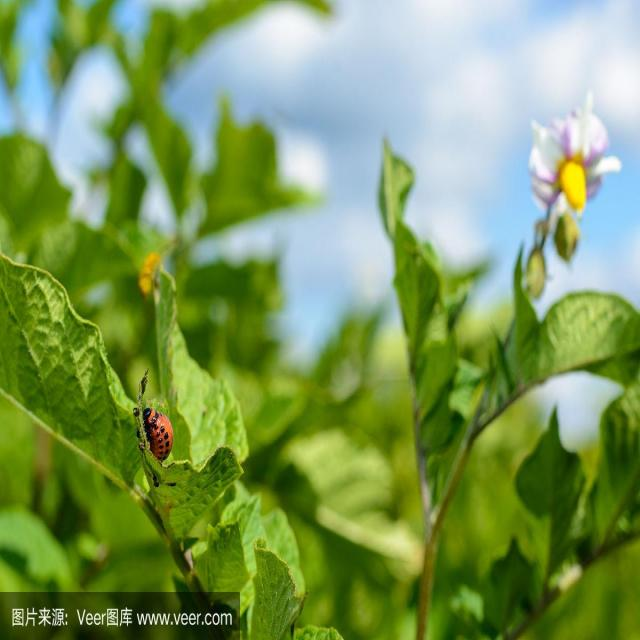ShuCaiHuaBanChong-Larva-: (138, 404, 176, 471)
